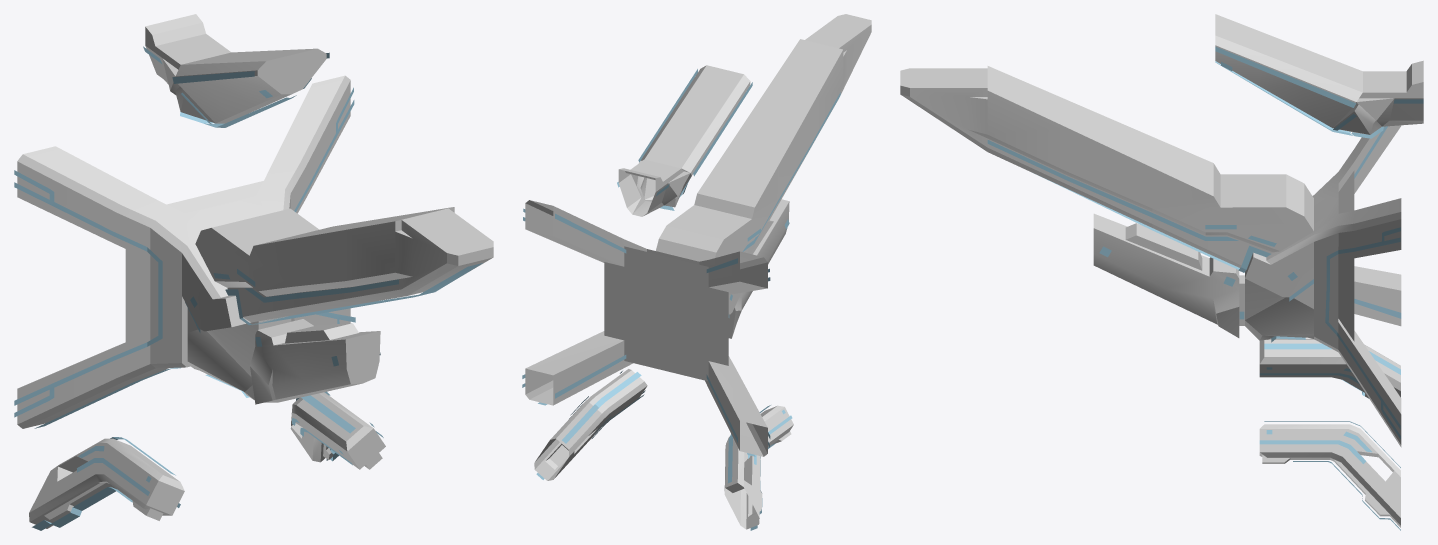
The model's file is tron.fbx.
3 views of the same model, side by side, from view 1: azimuth 30°, elevation 25°; view 2: azimuth 150°, elevation 25°; view 3: azimuth 270°, elevation 25° (orthographic). The views are drawn at different scales.
Visible parts, largest first — view 1: ship:polySurface1; view 2: ship:polySurface1; view 3: ship:polySurface1.
Boxes of the visible parts, x1,y1,x2,y2 form: ship:polySurface1: [14, 14, 493, 530]; ship:polySurface1: [522, 14, 871, 530]; ship:polySurface1: [900, 14, 1423, 530].
Size of the model in its own units: 7.01 by 10.21 by 10.85.
